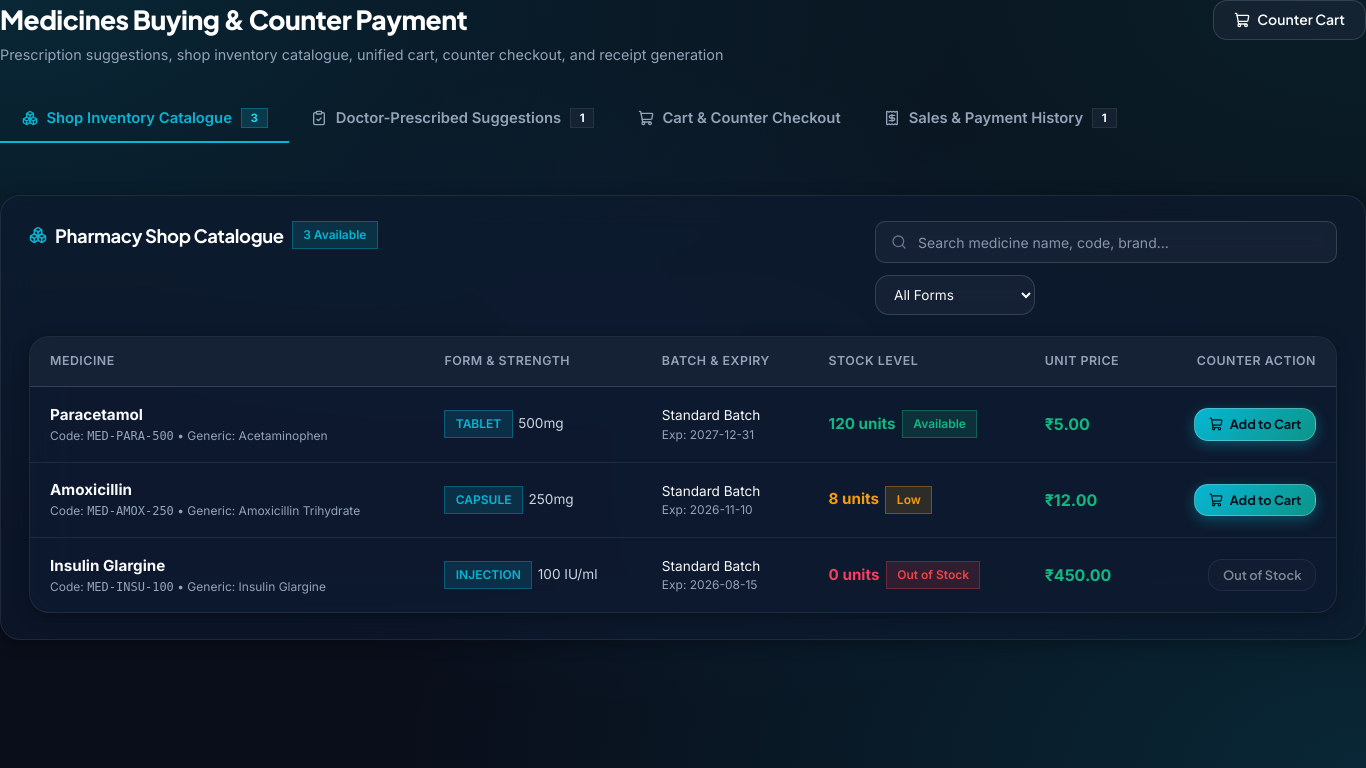
Test case: CareFlow HMS — Pharmacist Dashboard Redesign Test Suite › PharmacistBuyingPaymentPage renders all 4 functional tabs, shop catalogue, prescriptions, cart checkout, and Buy Again
The image size is (1366, 768).
Expected: the heading "Medicines Buying & Counter Payment" is shown, x1=0 y1=3 x2=467 y2=36
Expected: the text "Shop Inventory Catalogue" is shown, x1=46 y1=109 x2=232 y2=127
// Click on Doctor-Prescribed Suggestions tab
Click the text "Doctor-Prescribed Suggestions" at (448, 118), box x1=336 y1=109 x2=561 y2=127
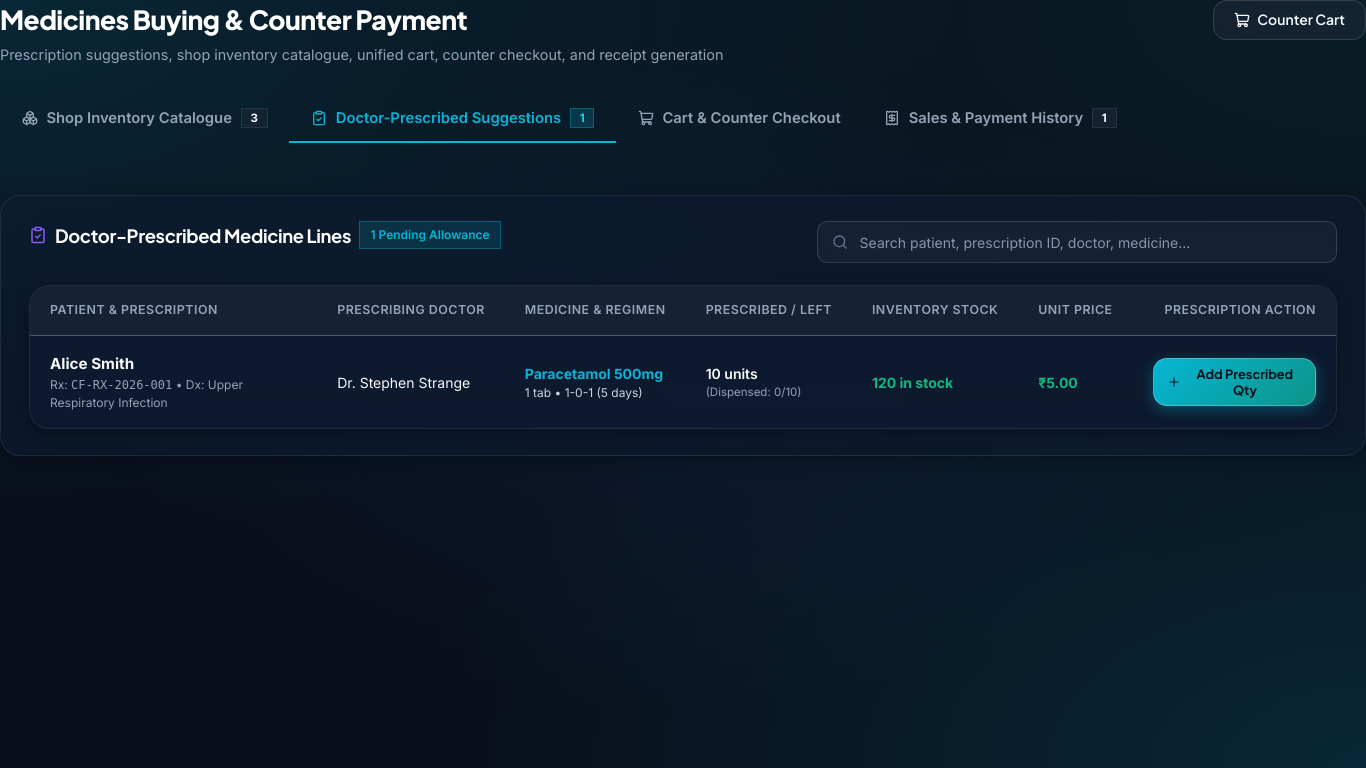
Now the heading "Doctor-Prescribed Medicine Lines" is shown, box x1=55 y1=222 x2=351 y2=249
Now the text "Alice Smith" is shown, box x1=50 y1=354 x2=134 y2=373
Now the text "CF-RX-2026-001" is shown, box x1=71 y1=378 x2=172 y2=392
// Add prescribed item to cart
Click the button "Add Prescribed Qty" at (1234, 382), box x1=1153 y1=358 x2=1316 y2=406
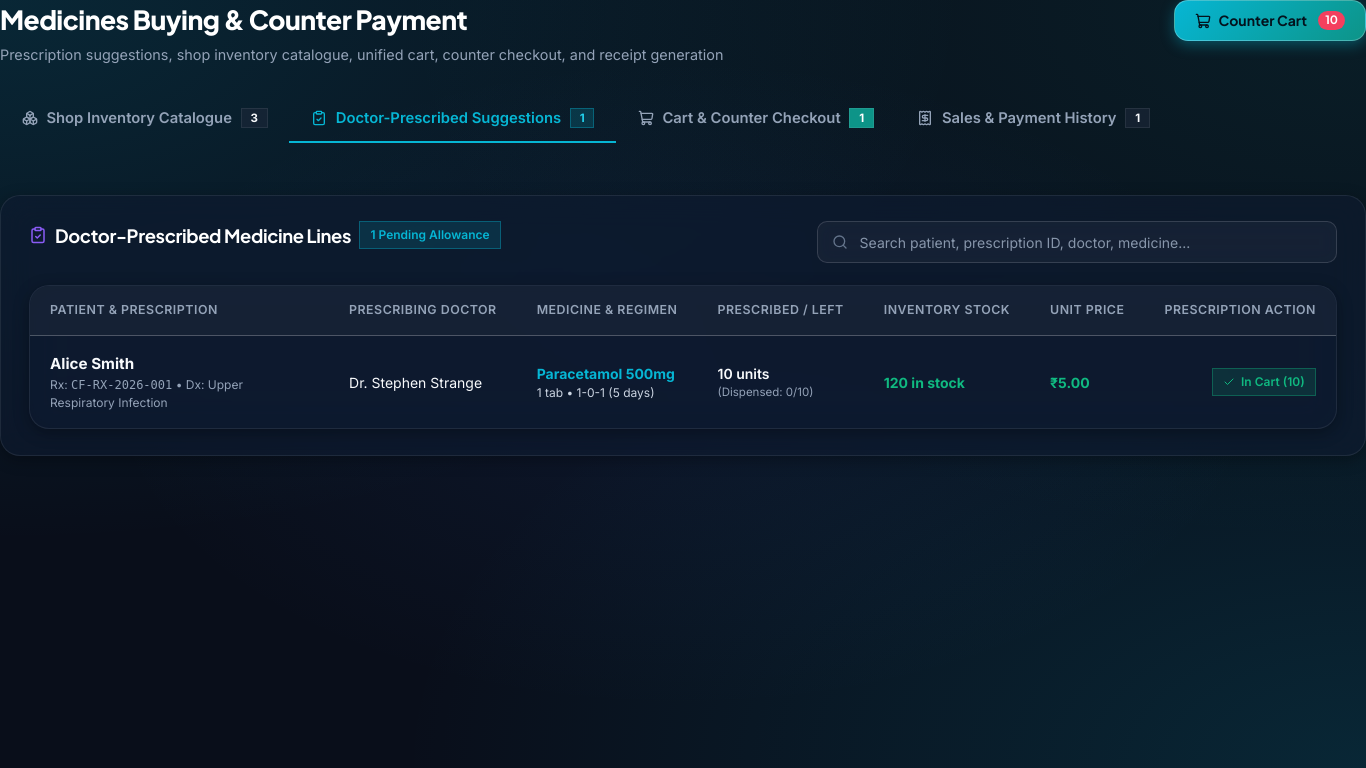
// Click on Cart & Counter Checkout tab
Click the text "Cart & Counter Checkout" at (752, 118), box x1=662 y1=109 x2=841 y2=127
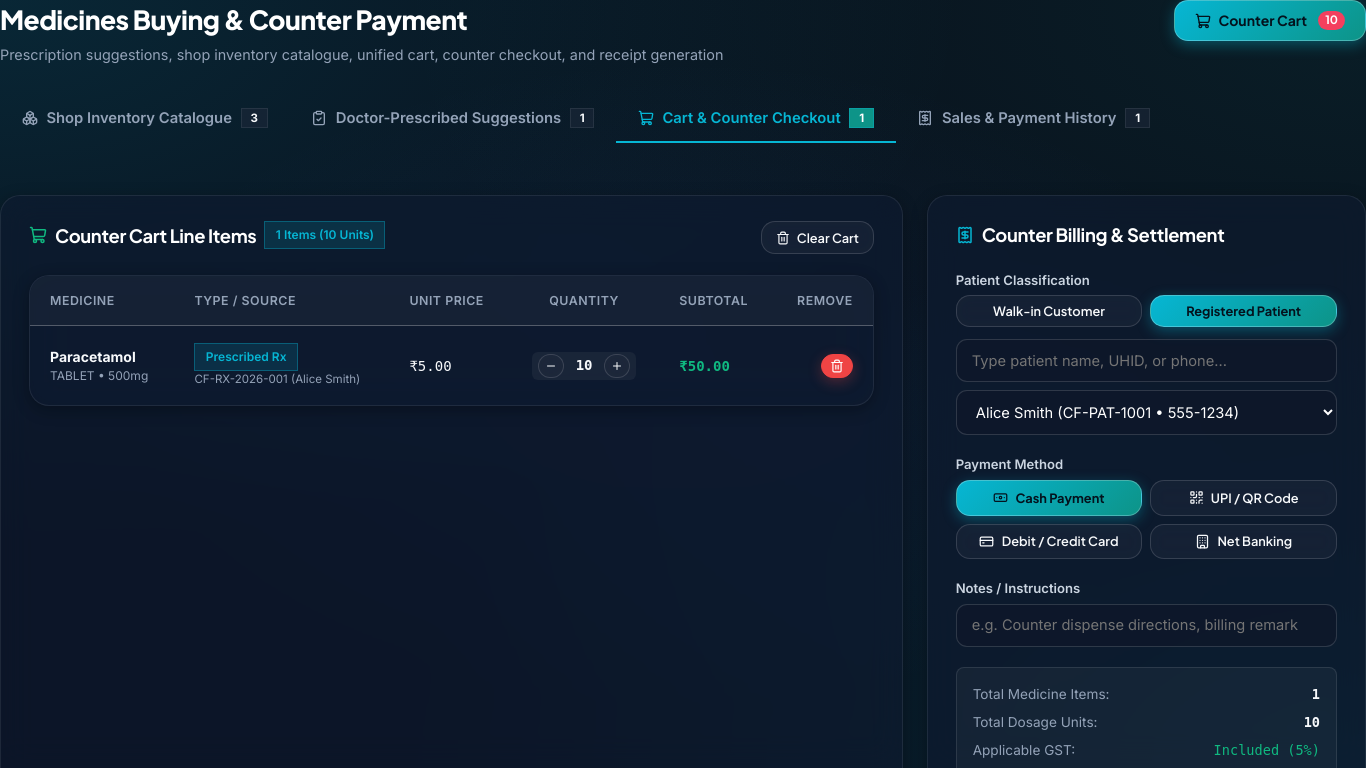
Now the heading "Counter Cart Line Items" is shown, box x1=55 y1=222 x2=256 y2=249
Now the heading "Counter Billing & Settlement" is shown, box x1=982 y1=221 x2=1224 y2=249
// Click on Sales & Payment History tab
Click the text "Sales & Payment History" at (1029, 118), box x1=942 y1=109 x2=1116 y2=127
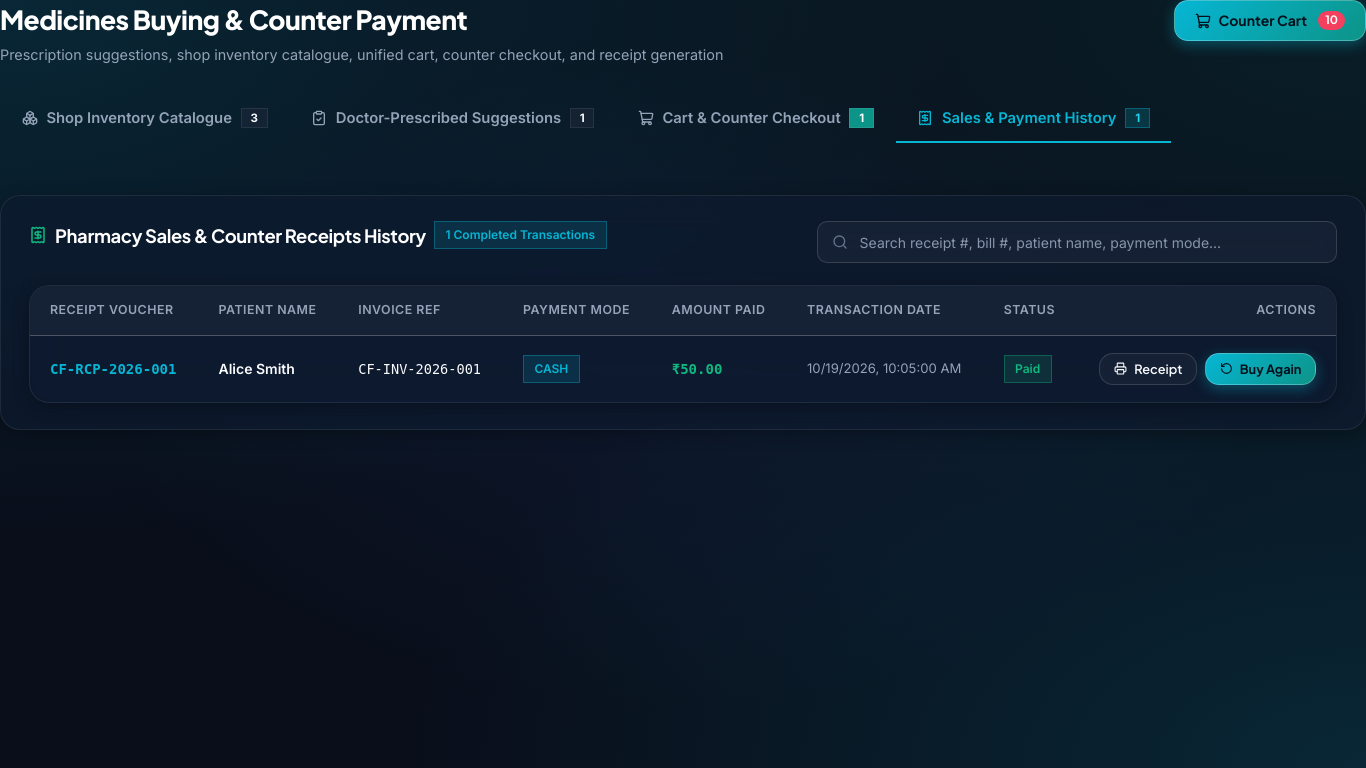
Now the heading "Pharmacy Sales & Counter Receipts History" is shown, box x1=55 y1=222 x2=426 y2=249
Now the text "CF-RCP-2026-001" is shown, box x1=50 y1=361 x2=176 y2=377
Now the button "Receipt" is shown, box x1=1099 y1=353 x2=1197 y2=385
// Trigger Buy Again on previous transaction
Click the button "Buy Again" at (1260, 369), box x1=1205 y1=353 x2=1316 y2=385
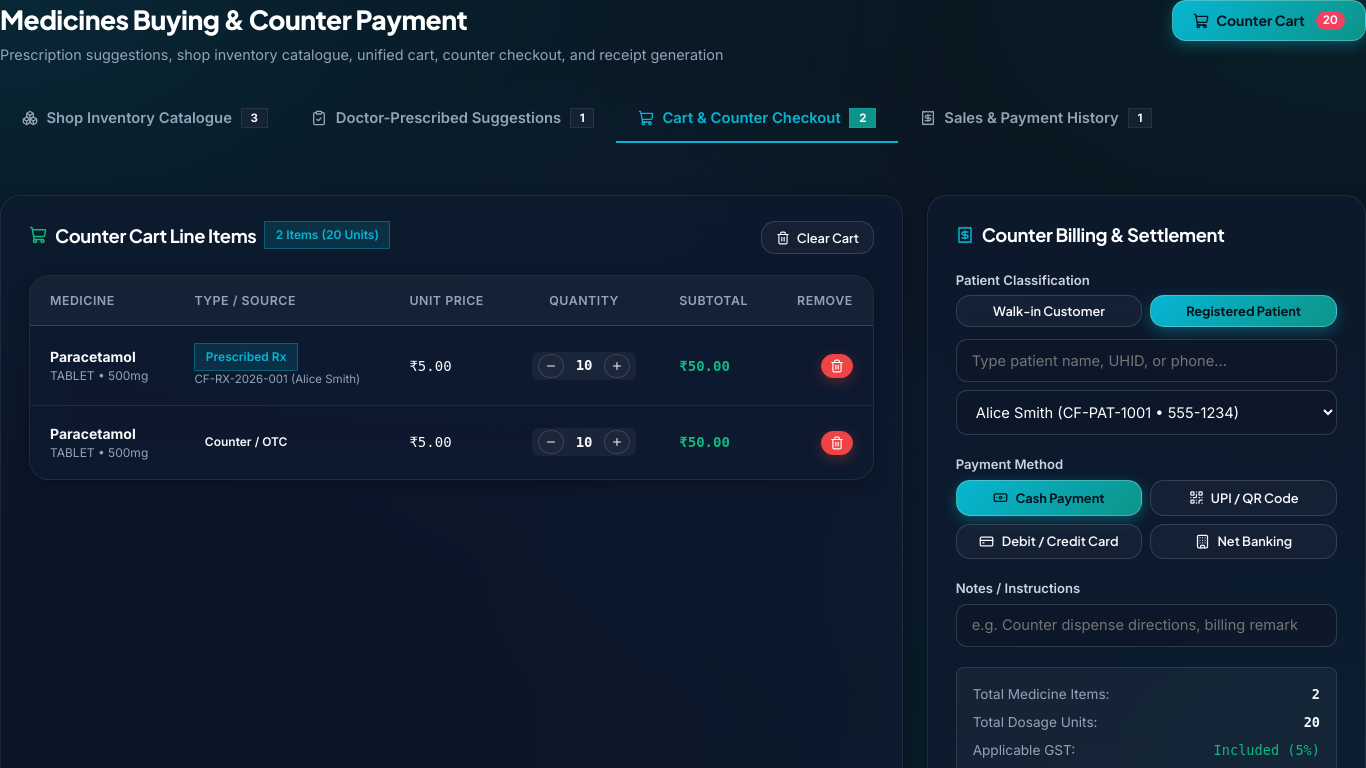
Now the heading "Counter Cart Line Items" is shown, box x1=55 y1=222 x2=256 y2=249
